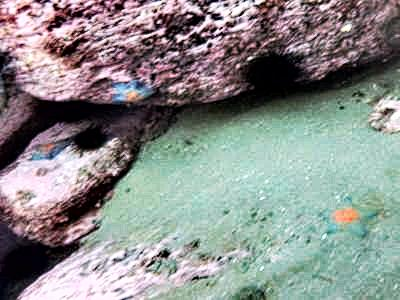urchin: (240, 48, 299, 94), (65, 122, 111, 153)
